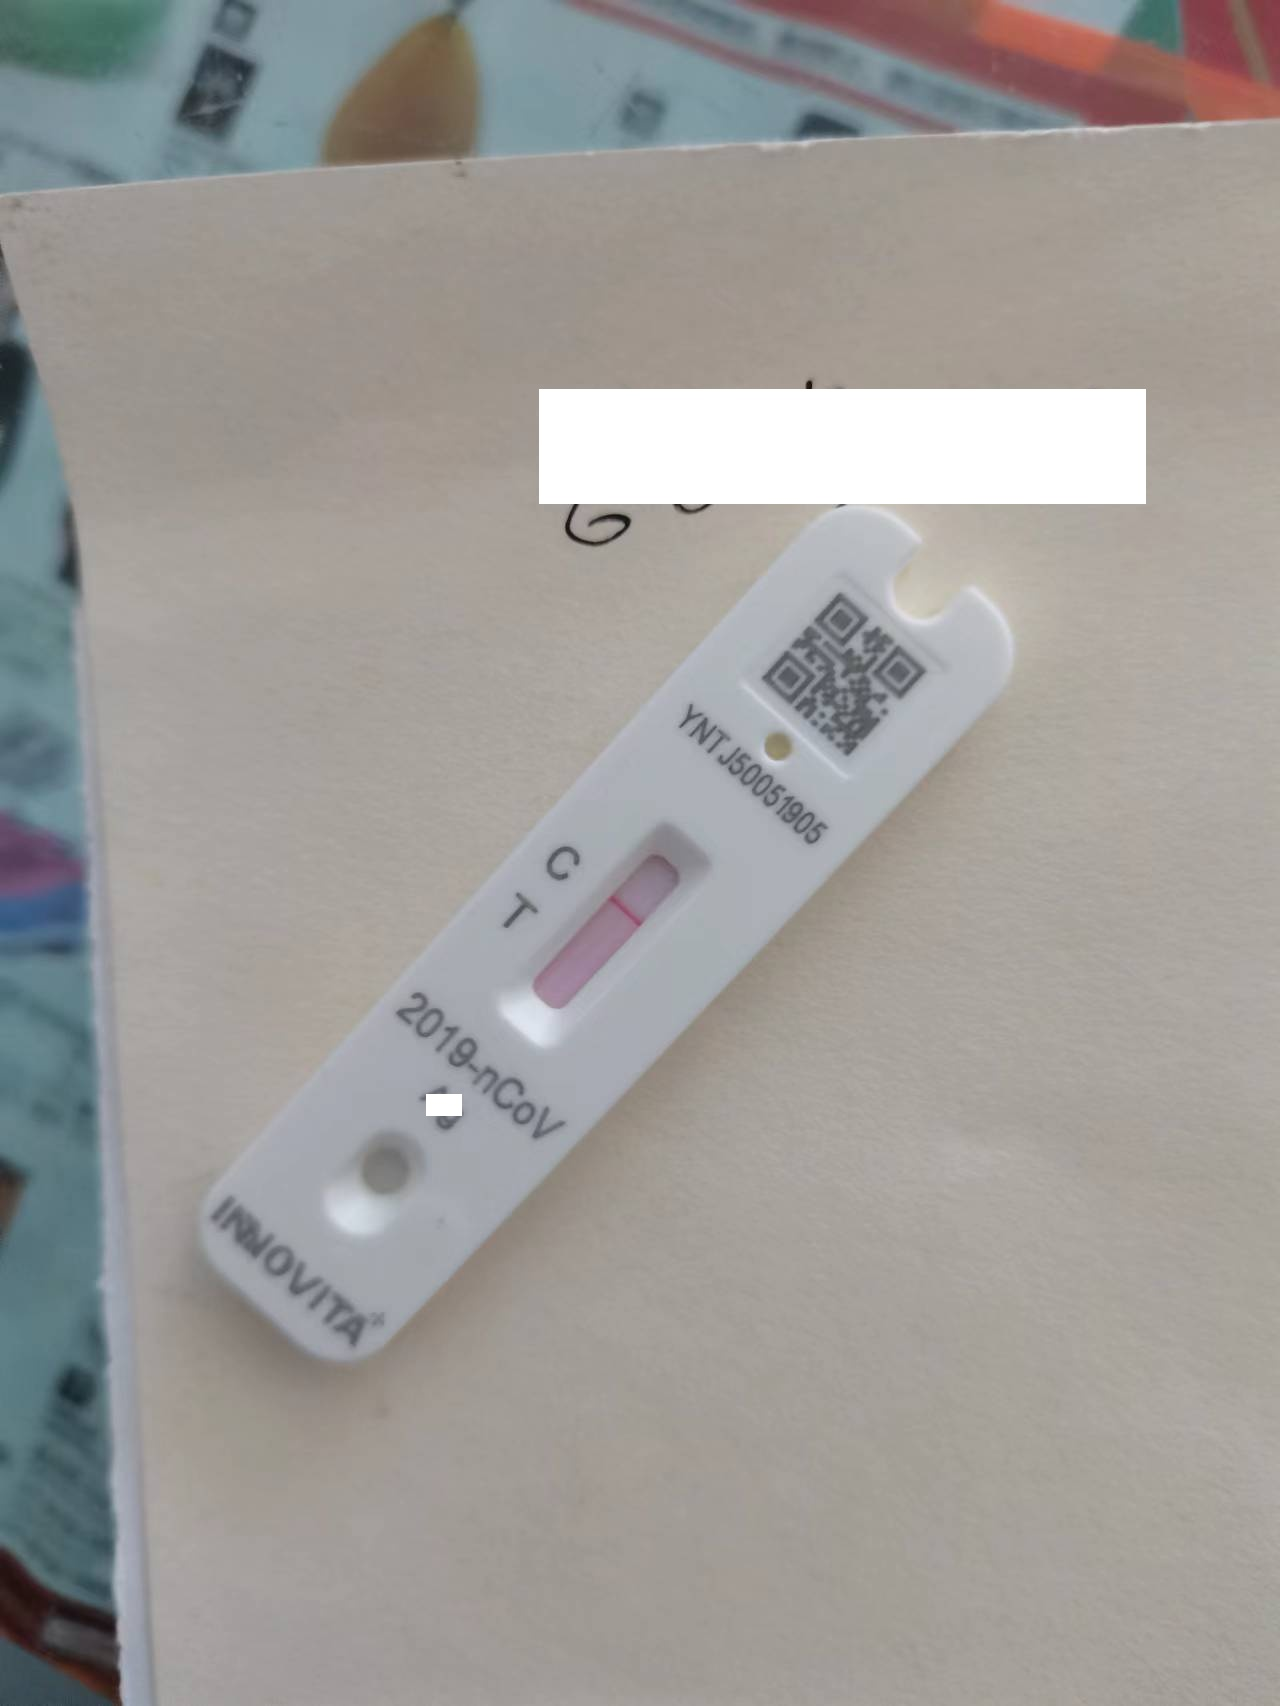negative: (534, 846, 694, 1022)
